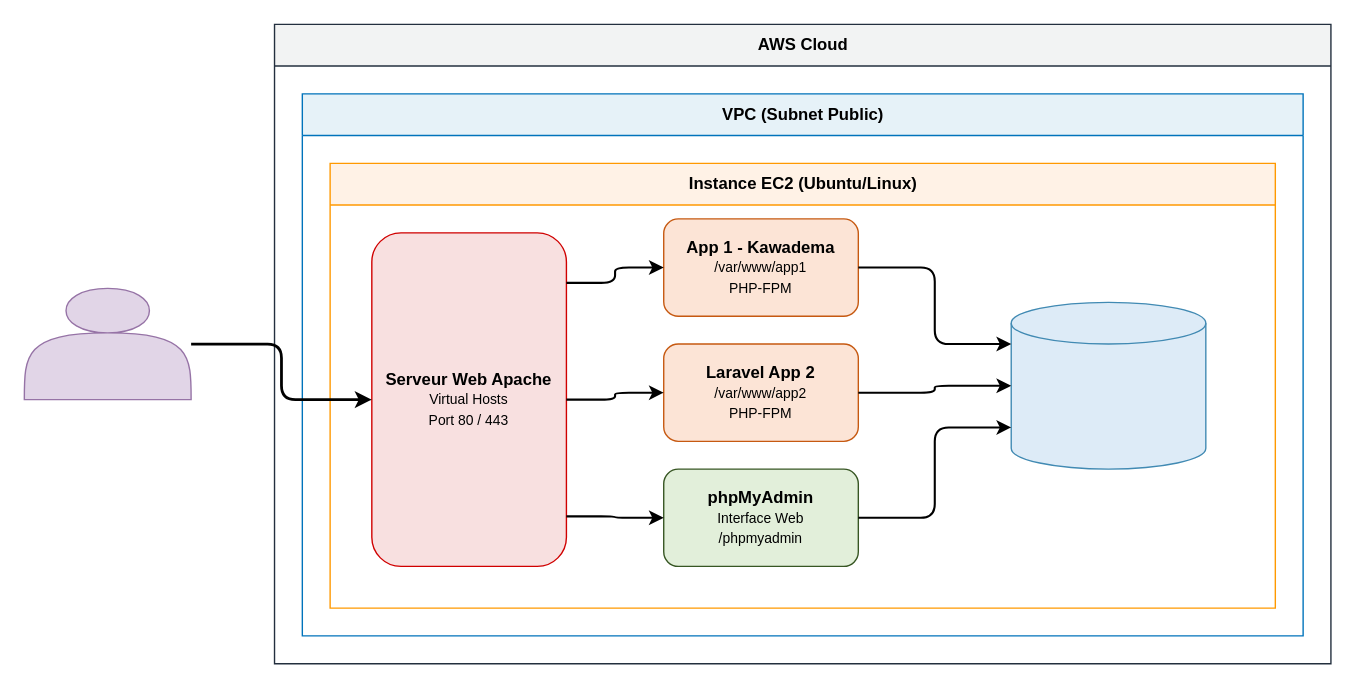
Some shapes in this 1355 by 688 pixel diagram are drawn without their labels. The shapes that lost their labels are listed below. From the top down, each one's centre as x and y in pixels, then its label:
point 107,343: Utilisateur / Internet Requêtes HTTP/HTTPS
point 1108,385: Base de Données MySQL Server Port 3306
